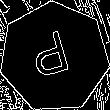P_S: (30, 28, 79, 87)
